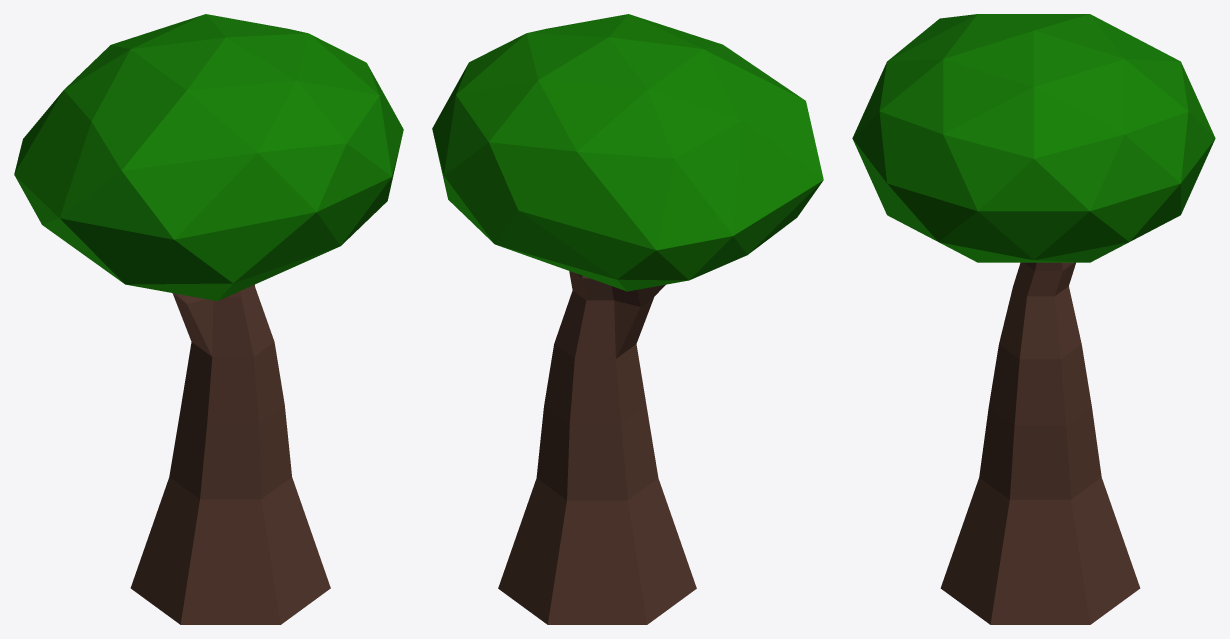
The model's file is tree2.fbx.
3 views of the same model, side by side, from view 1: azimuth 30°, elevation 25°; view 2: azimuth 150°, elevation 25°; view 3: azimuth 270°, elevation 25° (orthographic).
Visible parts, largest first — view 1: Cylinder; view 2: Cylinder; view 3: Cylinder.
Part boxes in pixels (x1,y1,x2,y2): Cylinder: [14, 14, 403, 624]; Cylinder: [432, 14, 823, 624]; Cylinder: [852, 14, 1215, 624].
Bounding box in the file's own units: 6.42 × 9.97 × 5.93.
